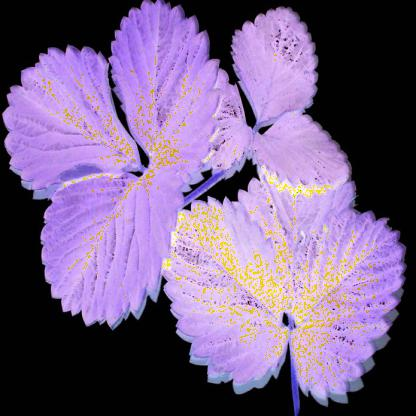Strawberry leaf: (35, 164, 188, 333), (163, 197, 296, 389), (1, 38, 148, 187), (293, 205, 405, 396), (104, 1, 221, 173), (232, 3, 322, 121), (251, 116, 351, 198)
